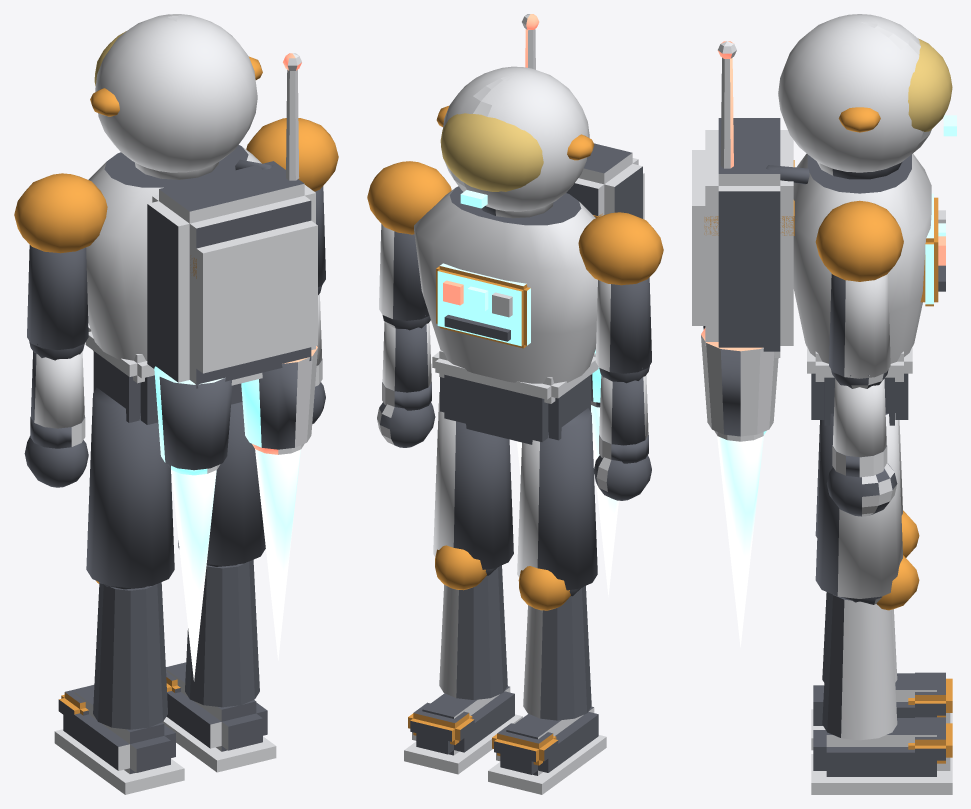
File: astronaut.glb
3 renders of one model, left to right at view 1: azimuth 30°, elevation 25°; view 2: azimuth 150°, elevation 25°; view 3: azimuth 270°, elevation 25°, orthographic. The views are drawn at different scales.
Visible parts, largest first — view 1: Astro_torso, Astro_head, Astro_legL2, Astro_legR2, Astro_legL1, Astro_armL2, Astro_armL1, Astro_legR1, Astro_JetFlame_R, Astro_JetFlame_L, Astro_hips, Astro_armR1 (+1 smaller); view 2: Astro_torso, Astro_head, Astro_legL2, Astro_legR2, Astro_legL1, Astro_legR1, Astro_hips, Astro_armR2, Astro_armL2, Astro_armL1, Astro_armR1, Astro_JetFlame_L; view 3: Astro_torso, Astro_head, Astro_legR2, Astro_legR1, Astro_armR2, Astro_armR1, Astro_JetFlame_R, Astro_legL2, Astro_hips, Astro_legL1.
Part boxes in pixels (<box>): Astro_torso: <box>14,53,338,475</box>; Astro_head: <box>90,14,262,179</box>; Astro_legL2: <box>54,580,184,794</box>; Astro_legR2: <box>162,559,276,772</box>; Astro_legL1: <box>86,387,174,589</box>; Astro_armL2: <box>24,351,88,487</box>; Astro_armL1: <box>27,245,88,360</box>; Astro_legR1: <box>178,402,265,566</box>; Astro_JetFlame_R: <box>255,449,300,660</box>; Astro_JetFlame_L: <box>171,470,216,681</box>; Astro_hips: <box>85,327,242,427</box>; Astro_armR1: <box>315,186,325,294</box>; Astro_torso: <box>367,14,663,407</box>; Astro_head: <box>436,66,594,218</box>; Astro_legL2: <box>488,566,606,794</box>; Astro_legR2: <box>404,545,522,774</box>; Astro_legL1: <box>517,408,597,596</box>; Astro_legR1: <box>433,392,513,575</box>; Astro_hips: <box>432,350,598,444</box>; Astro_armR2: <box>377,322,435,447</box>; Astro_armL2: <box>593,375,651,500</box>; Astro_armL1: <box>595,277,651,383</box>; Astro_armR1: <box>379,224,430,330</box>; Astro_JetFlame_L: <box>591,405,618,596</box>; Astro_torso: <box>692,41,945,441</box>; Astro_head: <box>778,14,956,179</box>; Astro_legR2: <box>811,555,952,794</box>; Astro_legR1: <box>815,413,902,604</box>; Astro_armR2: <box>826,378,897,516</box>; Astro_armR1: <box>829,274,890,388</box>; Astro_JetFlame_R: <box>717,435,763,647</box>; Astro_legL2: <box>811,510,952,750</box>; Astro_hips: <box>807,346,912,425</box>; Astro_legL1: <box>815,420,902,537</box>.
Size of the model in its own units: 0.82 by 1.85 by 0.6.
